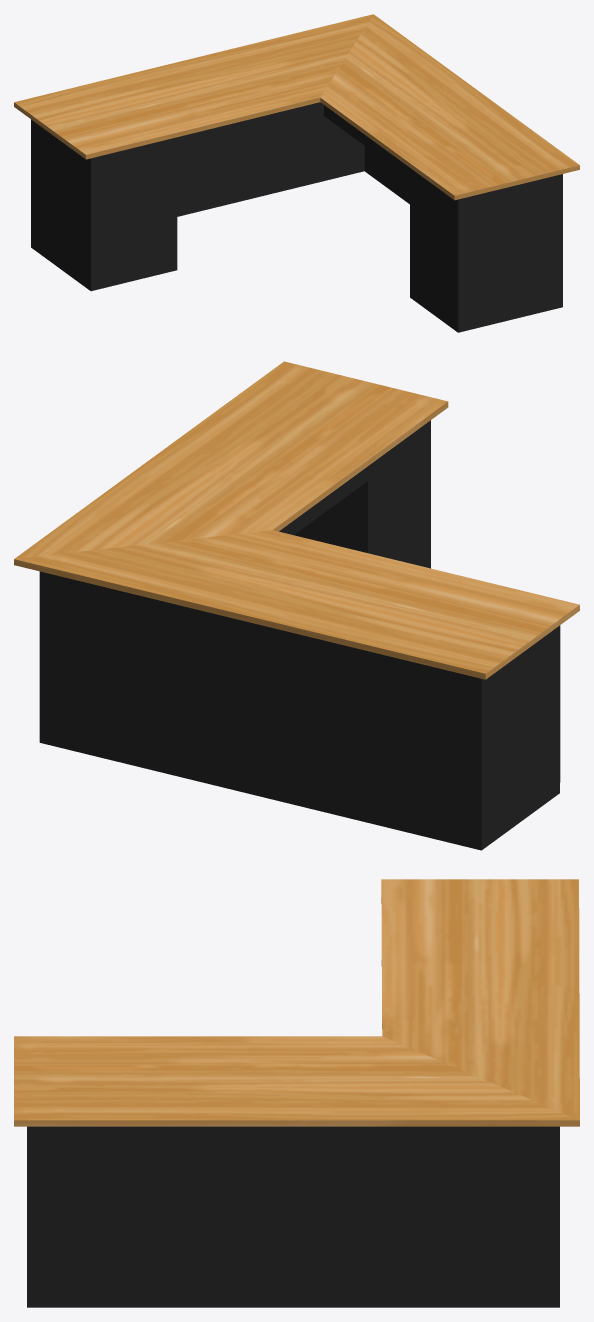
File: CornerDesk.fbx
3 renders of one model, top to bottom at view 1: azimuth 30°, elevation 25°; view 2: azimuth 150°, elevation 25°; view 3: azimuth 270°, elevation 25°, orthographic. The views are drawn at different scales.
Visible parts, largest first — view 1: Maya_File_Assets:TexturedAssetsCurrent:Hanifen_Quinton_Week7; view 2: Maya_File_Assets:TexturedAssetsCurrent:Hanifen_Quinton_Week7; view 3: Maya_File_Assets:TexturedAssetsCurrent:Hanifen_Quinton_Week7.
Boxes of the visible parts, x1=… form: Maya_File_Assets:TexturedAssetsCurrent:Hanifen_Quinton_Week7: x1=14, y1=14, x2=579, y2=332; Maya_File_Assets:TexturedAssetsCurrent:Hanifen_Quinton_Week7: x1=14, y1=361, x2=579, y2=850; Maya_File_Assets:TexturedAssetsCurrent:Hanifen_Quinton_Week7: x1=14, y1=879, x2=579, y2=1307.
Size of the model in its own units: 2.49 by 0.9406 by 2.47.
